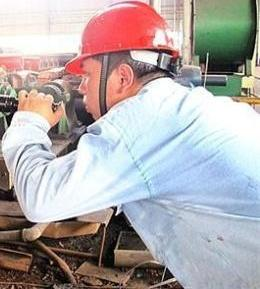hard-hat: (64, 0, 180, 76)
